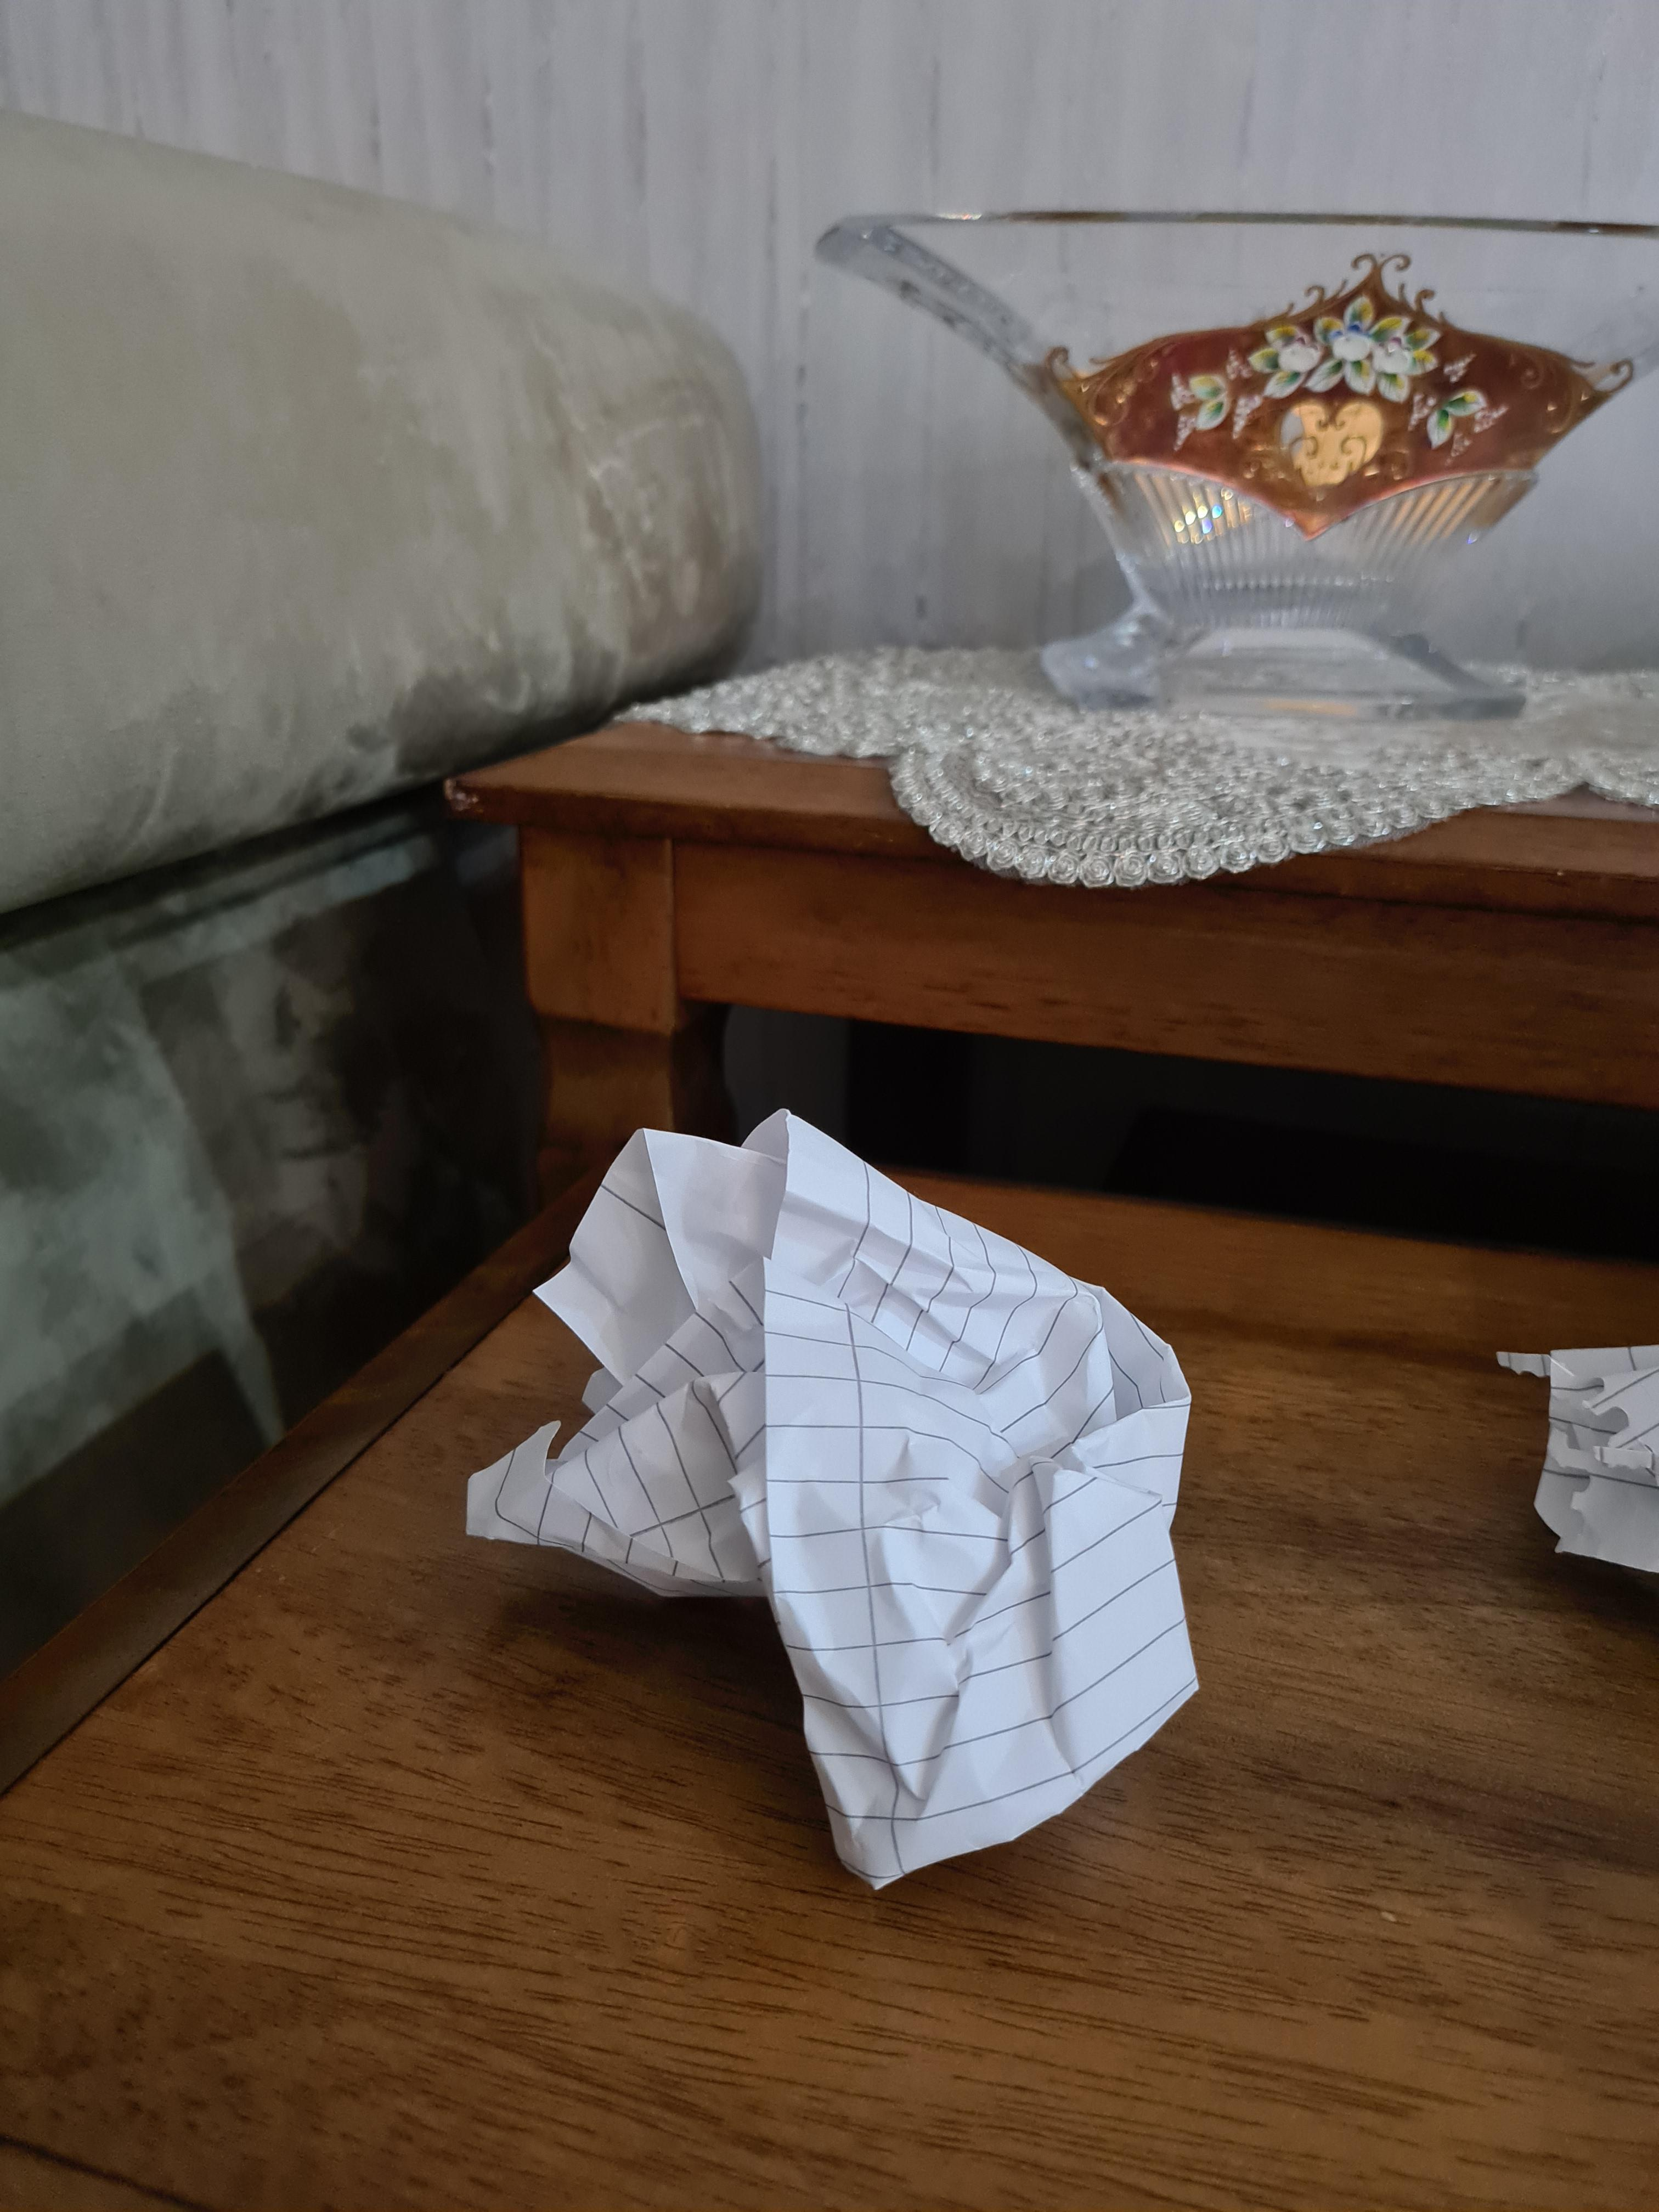Paper: (474, 1098, 1202, 1883)
